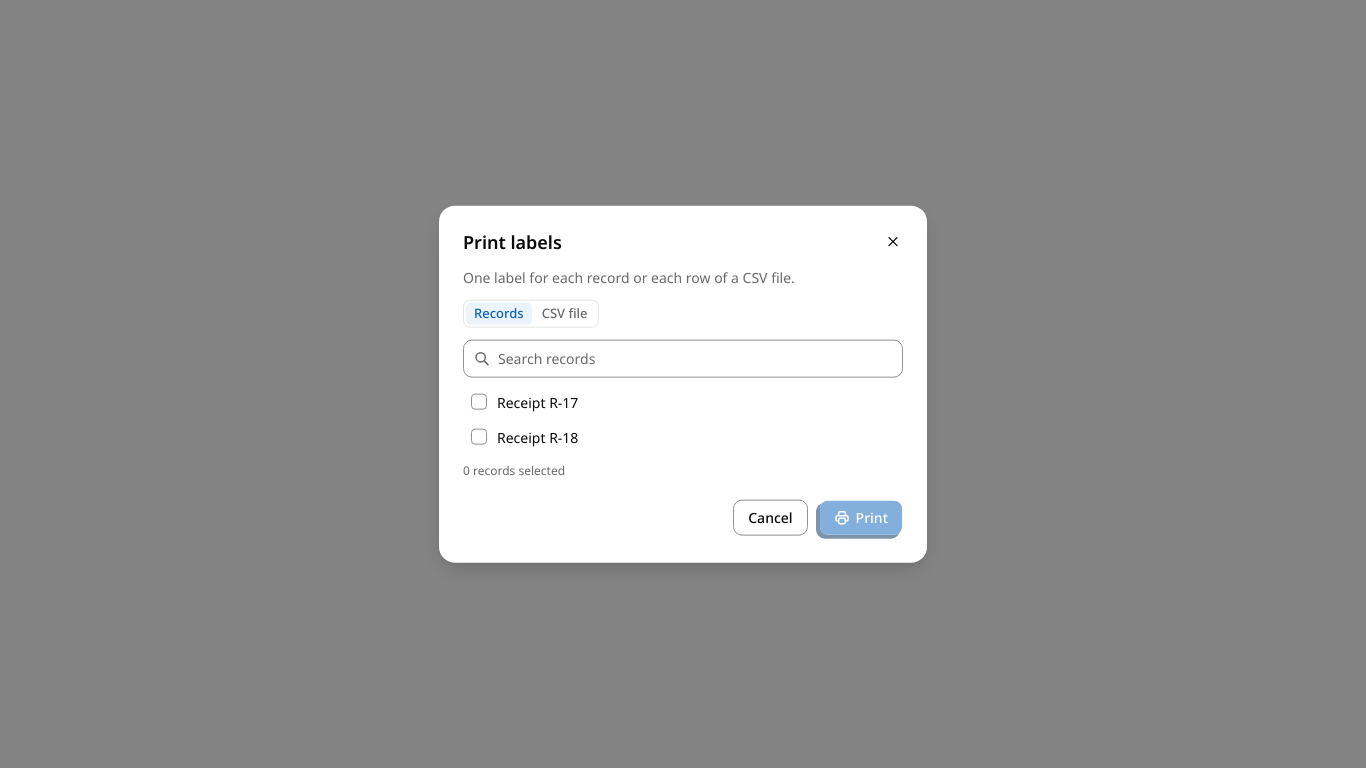
Scenario: PrintLabelsDialog › prints the records picked, and shows the server's reason when refused
The image size is (1366, 768).
Step 1. Click the text "Receipt R-17" → (538, 402), box [497, 391, 578, 412]
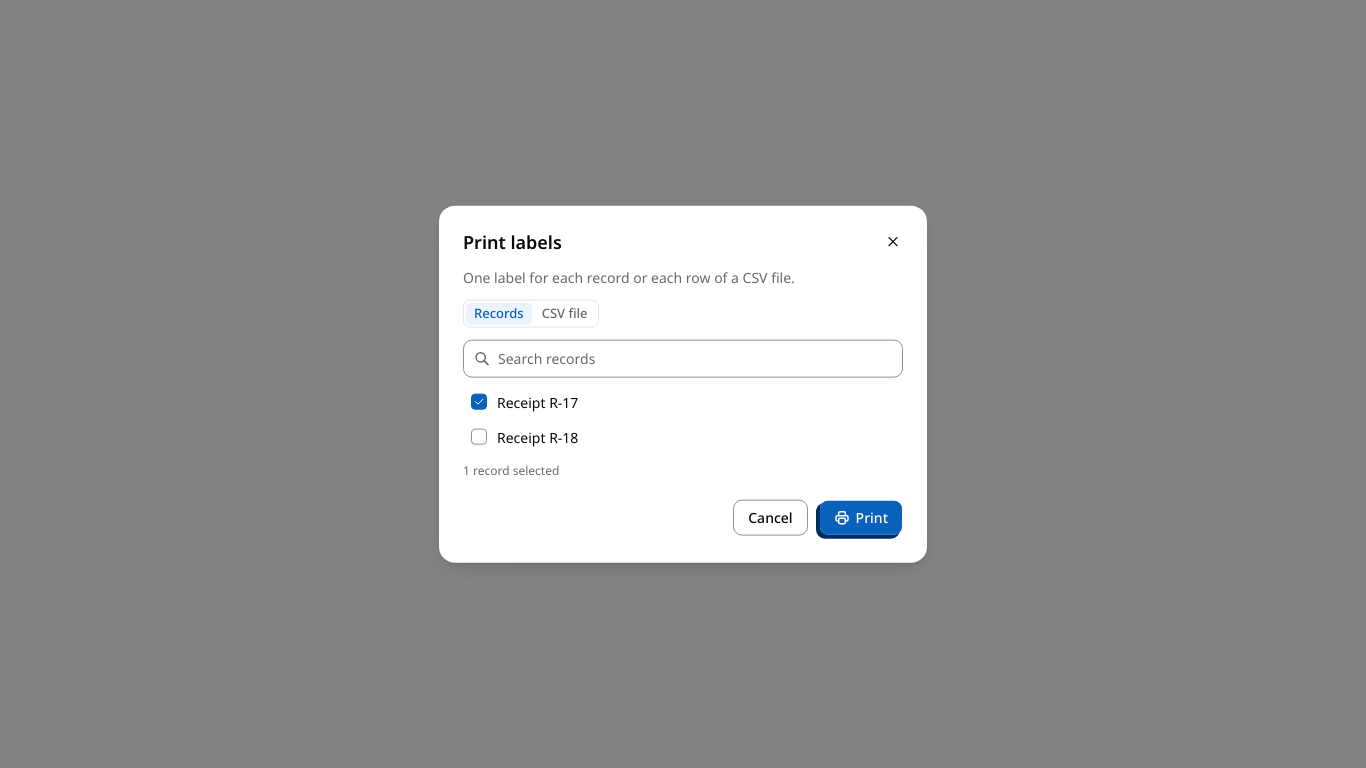
Expected: the text "1 record selected" is shown, [463, 461, 559, 478]
Step 2. Click the button "Print" → (861, 517), box [819, 499, 903, 535]
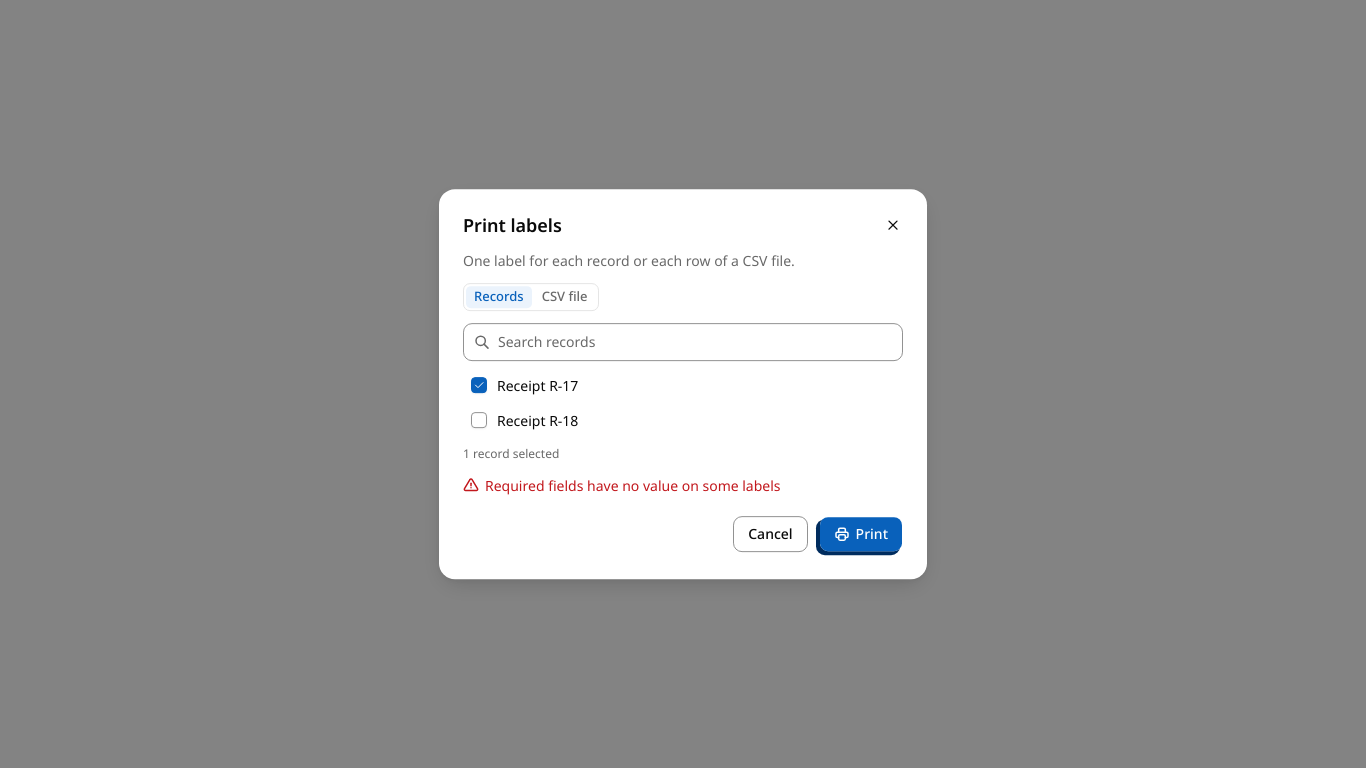
Expected: the message reads "Required fields have no value on some labels", [485, 476, 781, 495]
